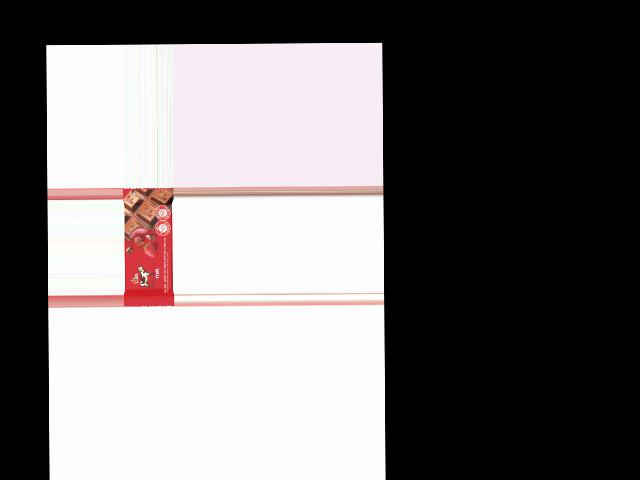chocolate: (123, 189, 174, 307)
